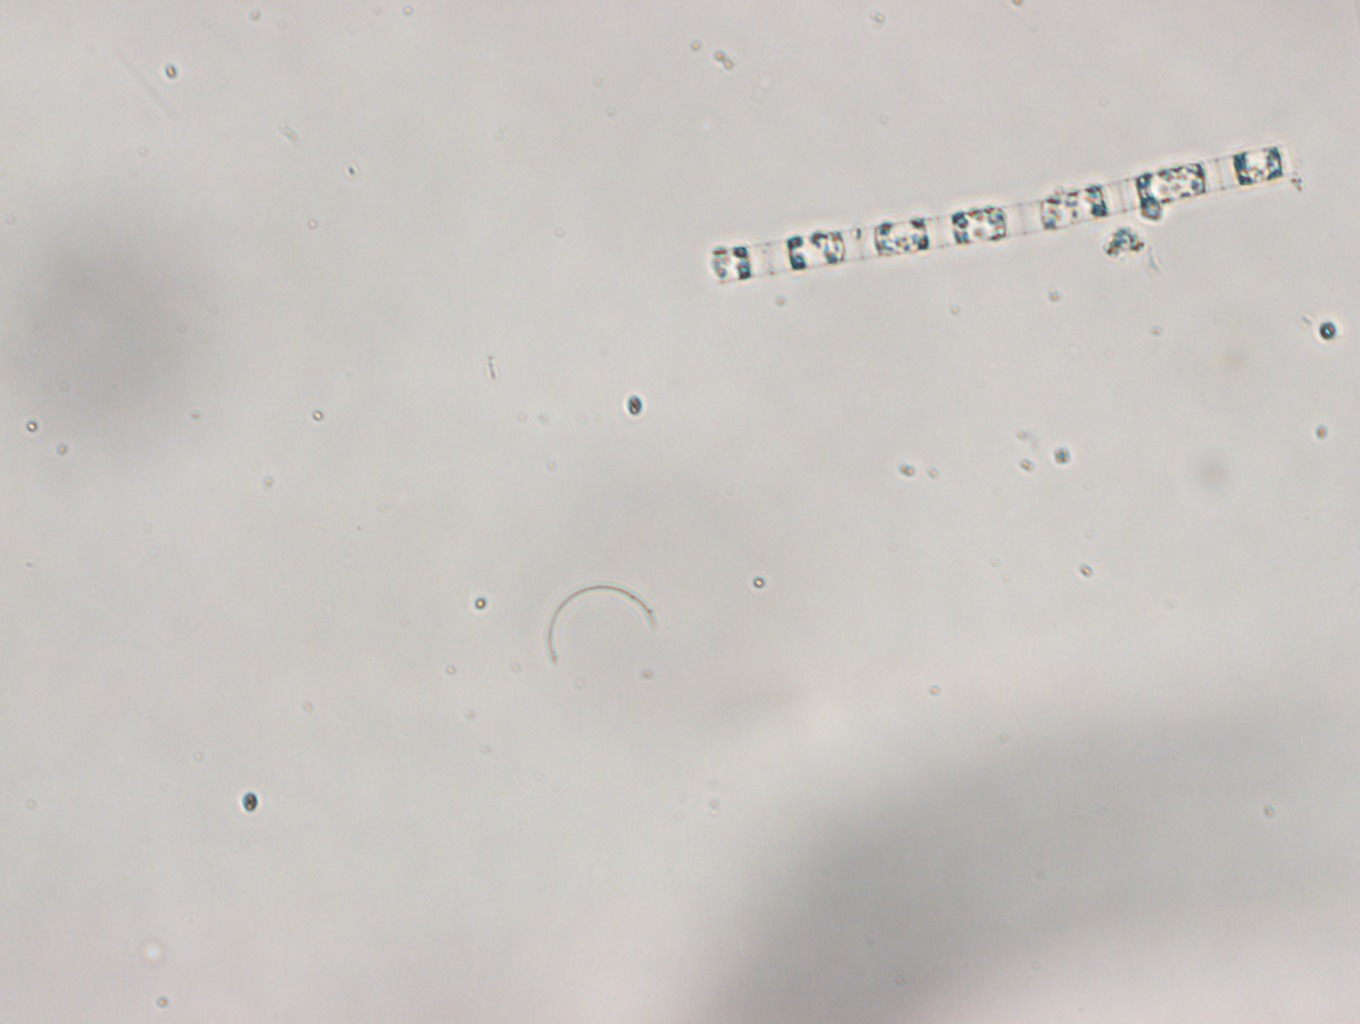skeletonema: (708, 139, 1300, 290)
